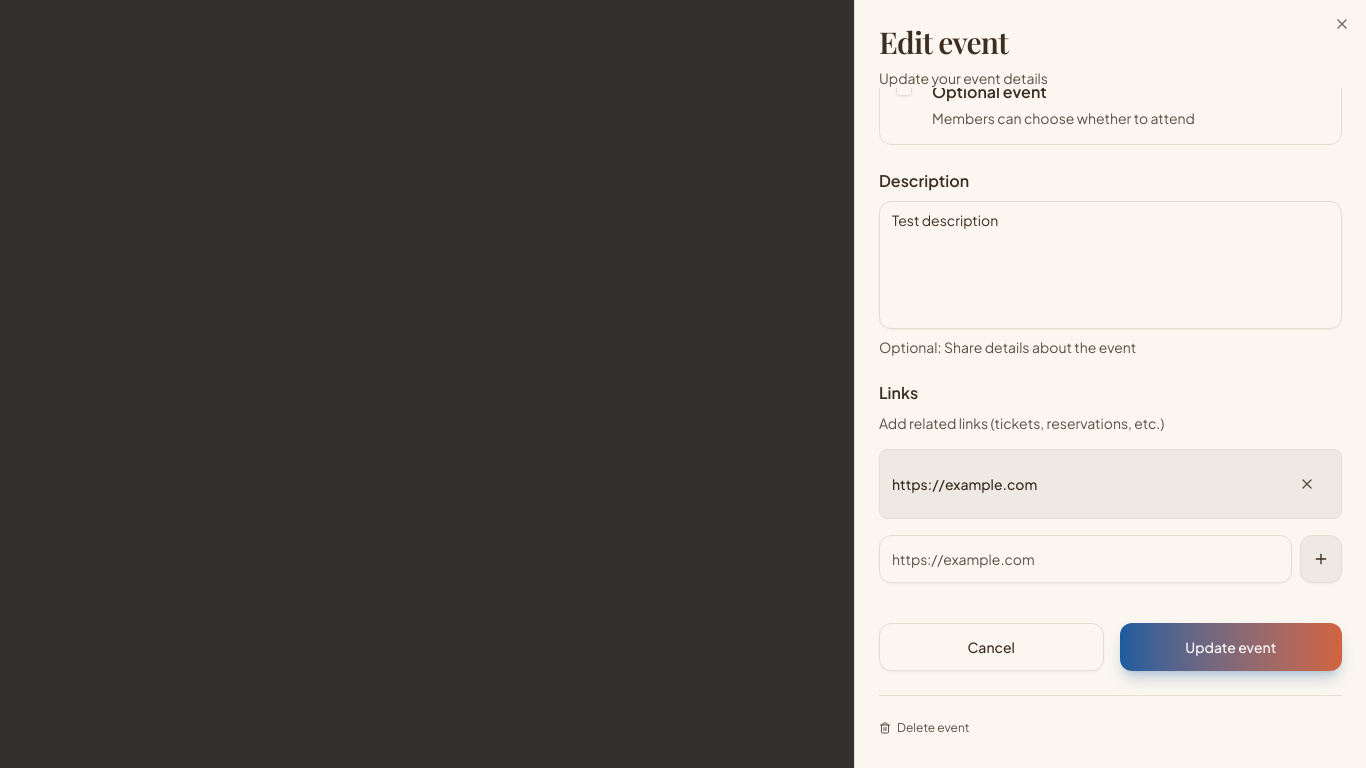
EditEventDialog › Delete functionality › shows confirmation dialog when delete button is clicked
The image size is (1366, 768).
(page scrolled)
What coordinates should you click on to do the following:
click the button "Delete event"
I would click on:
 (924, 728)
Its box is [879, 712, 970, 744].
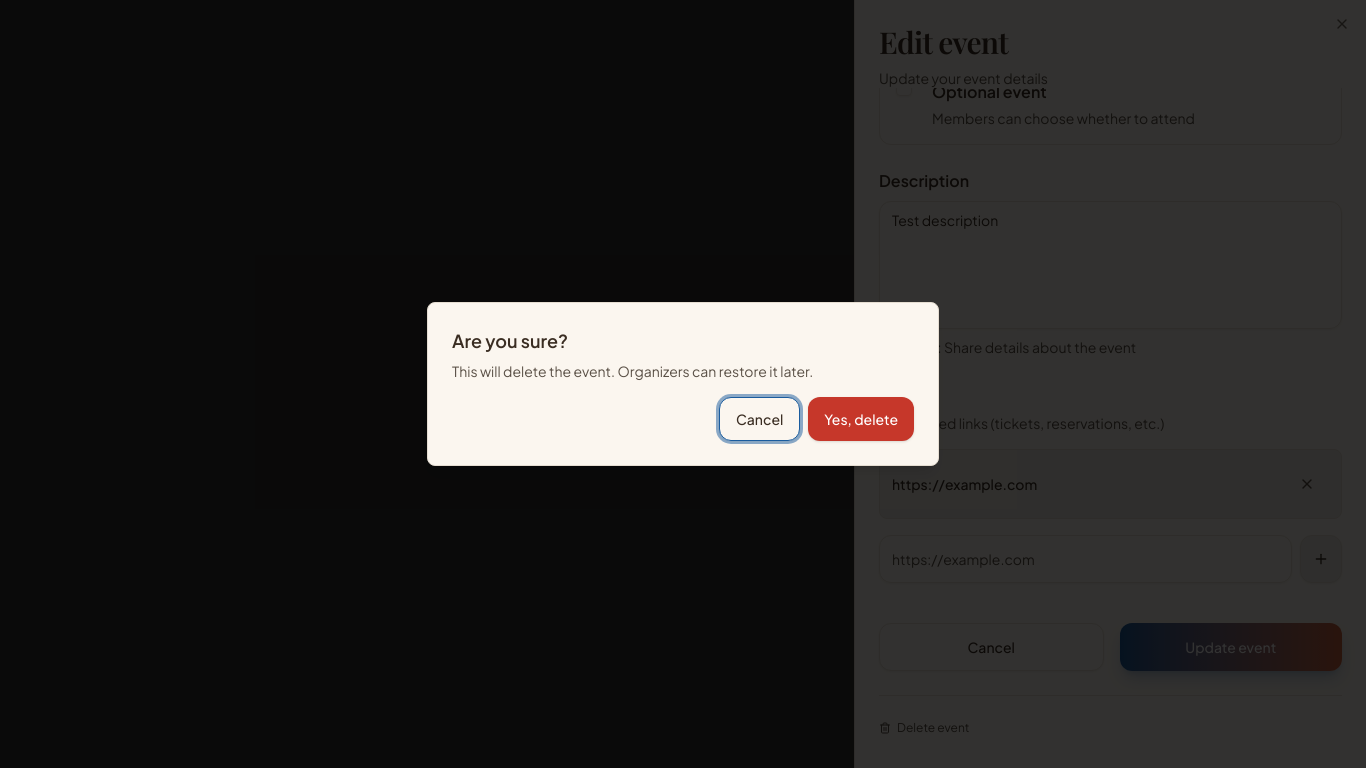
Result: the heading "Are you sure?" is shown at [452, 327, 568, 355]
